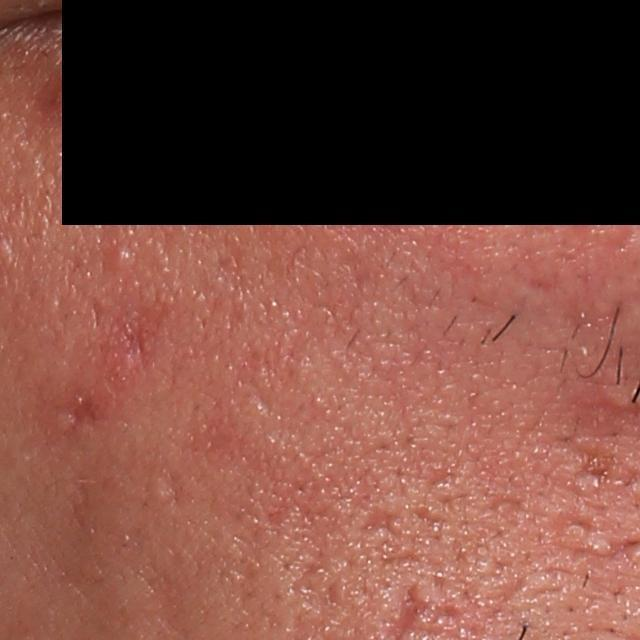atrophic_scar: (49, 385, 109, 439), (569, 438, 624, 488), (158, 461, 195, 516), (357, 506, 402, 539), (553, 510, 602, 537), (375, 548, 424, 569)
